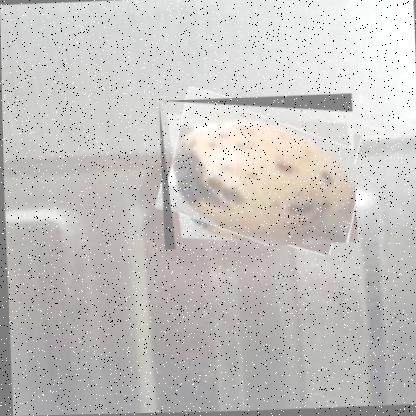mango_rotten: (158, 93, 357, 250)
